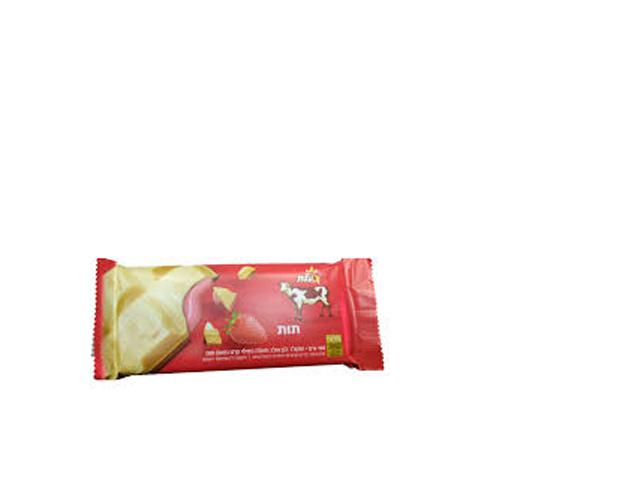chocolate: (91, 248, 402, 398)
